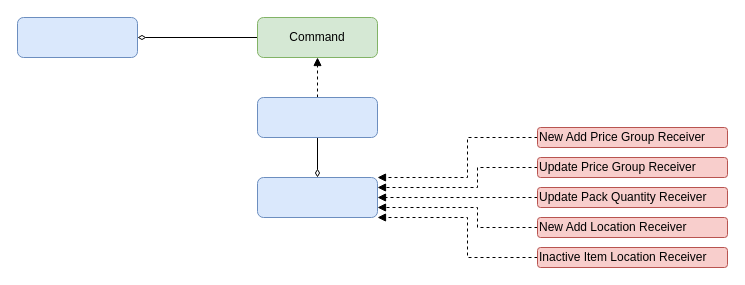
The diagram is 745 pixels wide and 285 high, and some of its shapes have lost their labels. The centre of each missing label's shape, as x and y in pixels:
"Change Receiver" goes at pixel 317 197.
"Contract Auto Update Command" goes at pixel 317 117.
"Contract Auto Update Processor" goes at pixel 77 37.
